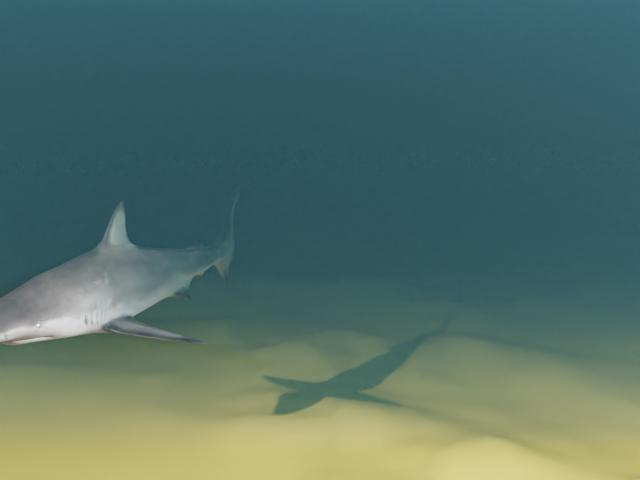Carribean Shark.001: (0, 183, 243, 345)
